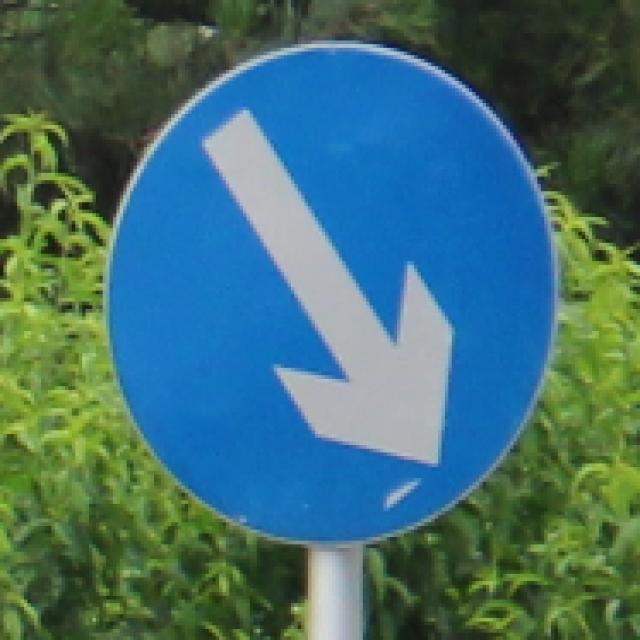Right: (110, 40, 556, 545)
